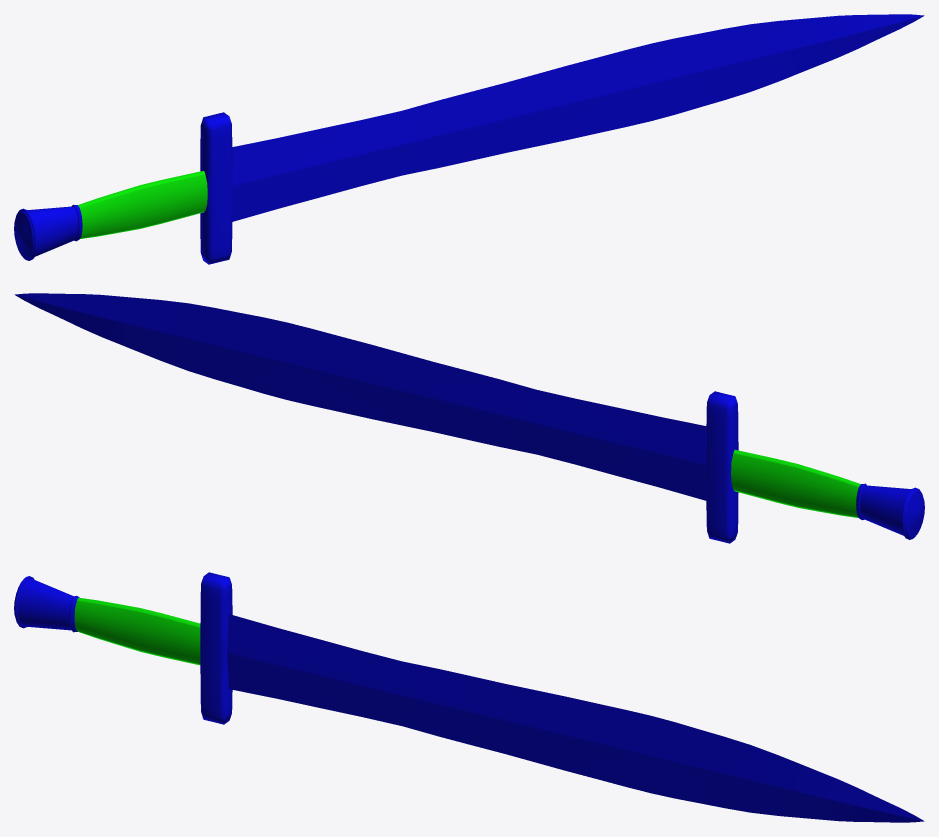
File: Hoplite_Sword_ColorID.fbx
The picture shows the model from 3 angles, top to bottom: view 1: azimuth 30°, elevation 25°; view 2: azimuth 150°, elevation 25°; view 3: azimuth 330°, elevation 25°; orthographic projection.
Visible parts, largest first — view 1: Hoplite_Sword_Color_ID; view 2: Hoplite_Sword_Color_ID; view 3: Hoplite_Sword_Color_ID.
Part boxes in pixels (x1,y1,x2,y2): Hoplite_Sword_Color_ID: (14,14,924,264); Hoplite_Sword_Color_ID: (14,293,924,543); Hoplite_Sword_Color_ID: (14,572,924,822).
Size of the model in its own units: 63.72 by 9.66 by 2.62.
